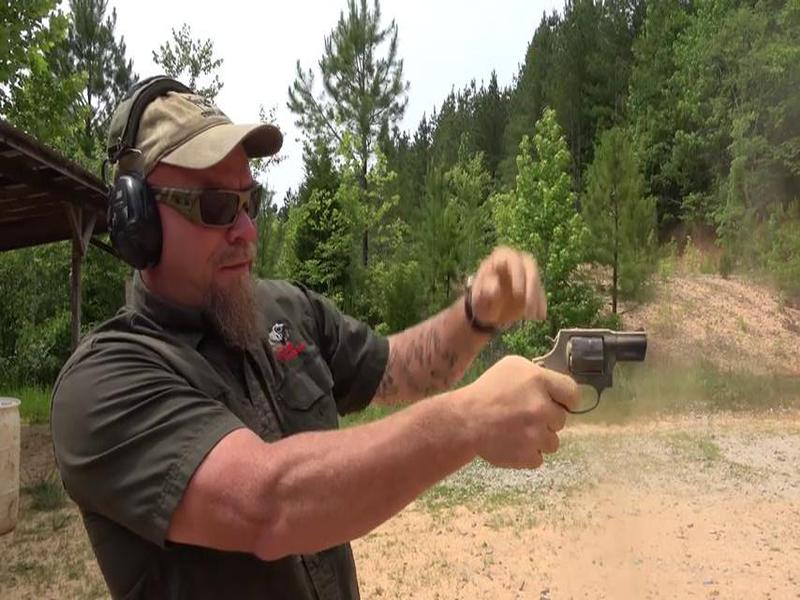Revolver: (510, 314, 663, 444)
